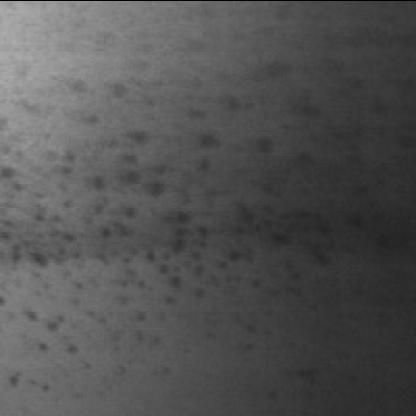pitted_surface: (4, 69, 406, 389)
